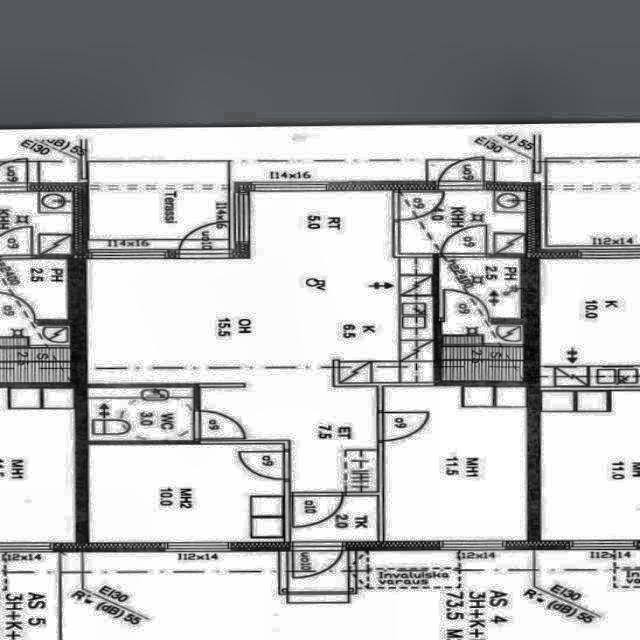room: (383, 388, 527, 541), (88, 444, 284, 543), (440, 258, 524, 382), (399, 191, 526, 254), (88, 389, 194, 441), (292, 496, 378, 541)
